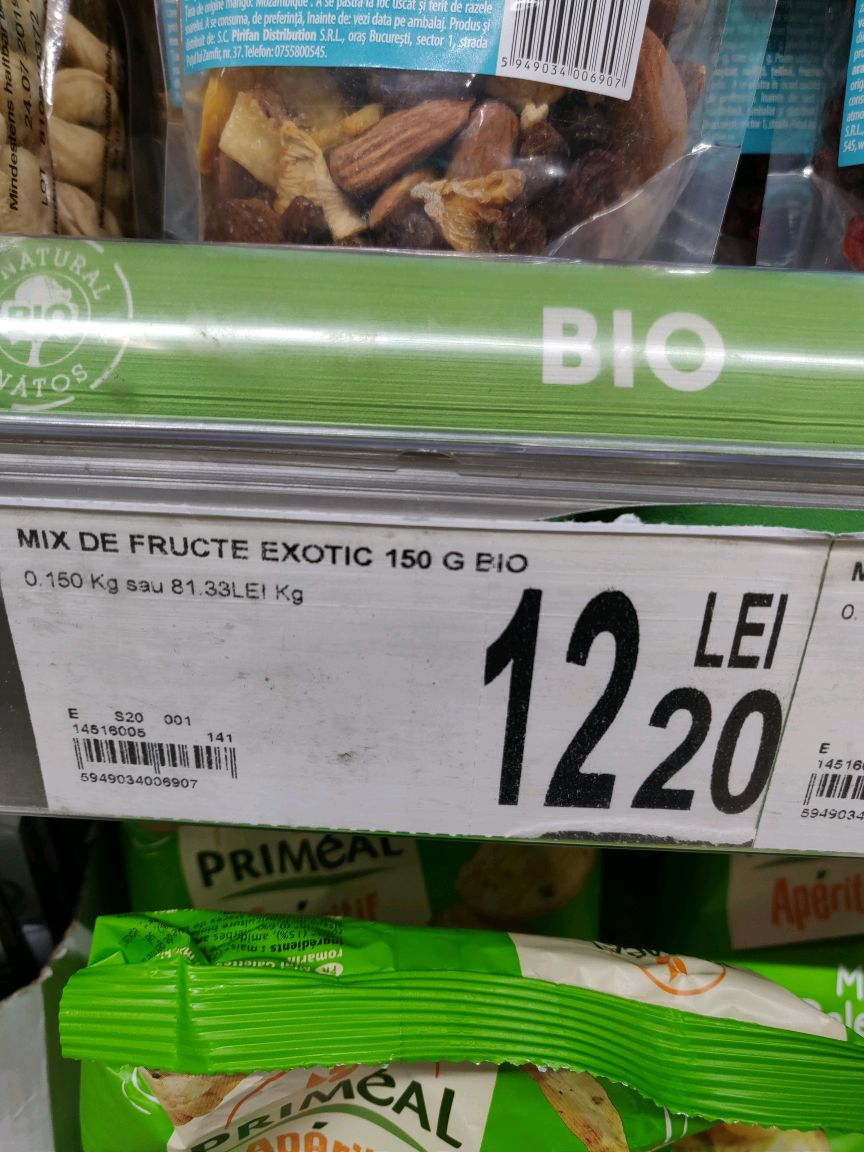price_bani: (633, 678, 795, 836)
price_lei: (475, 583, 650, 810)
price_tag: (1, 491, 837, 865)
product_id: (65, 772, 212, 797)
product_name: (11, 515, 535, 582)
